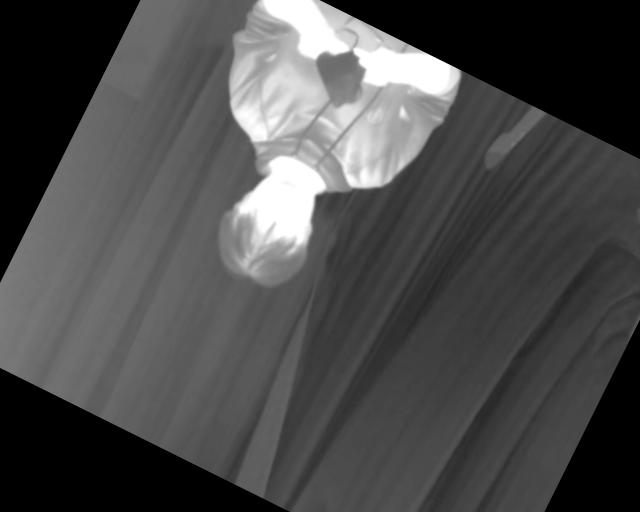face: (206, 152, 338, 298)
